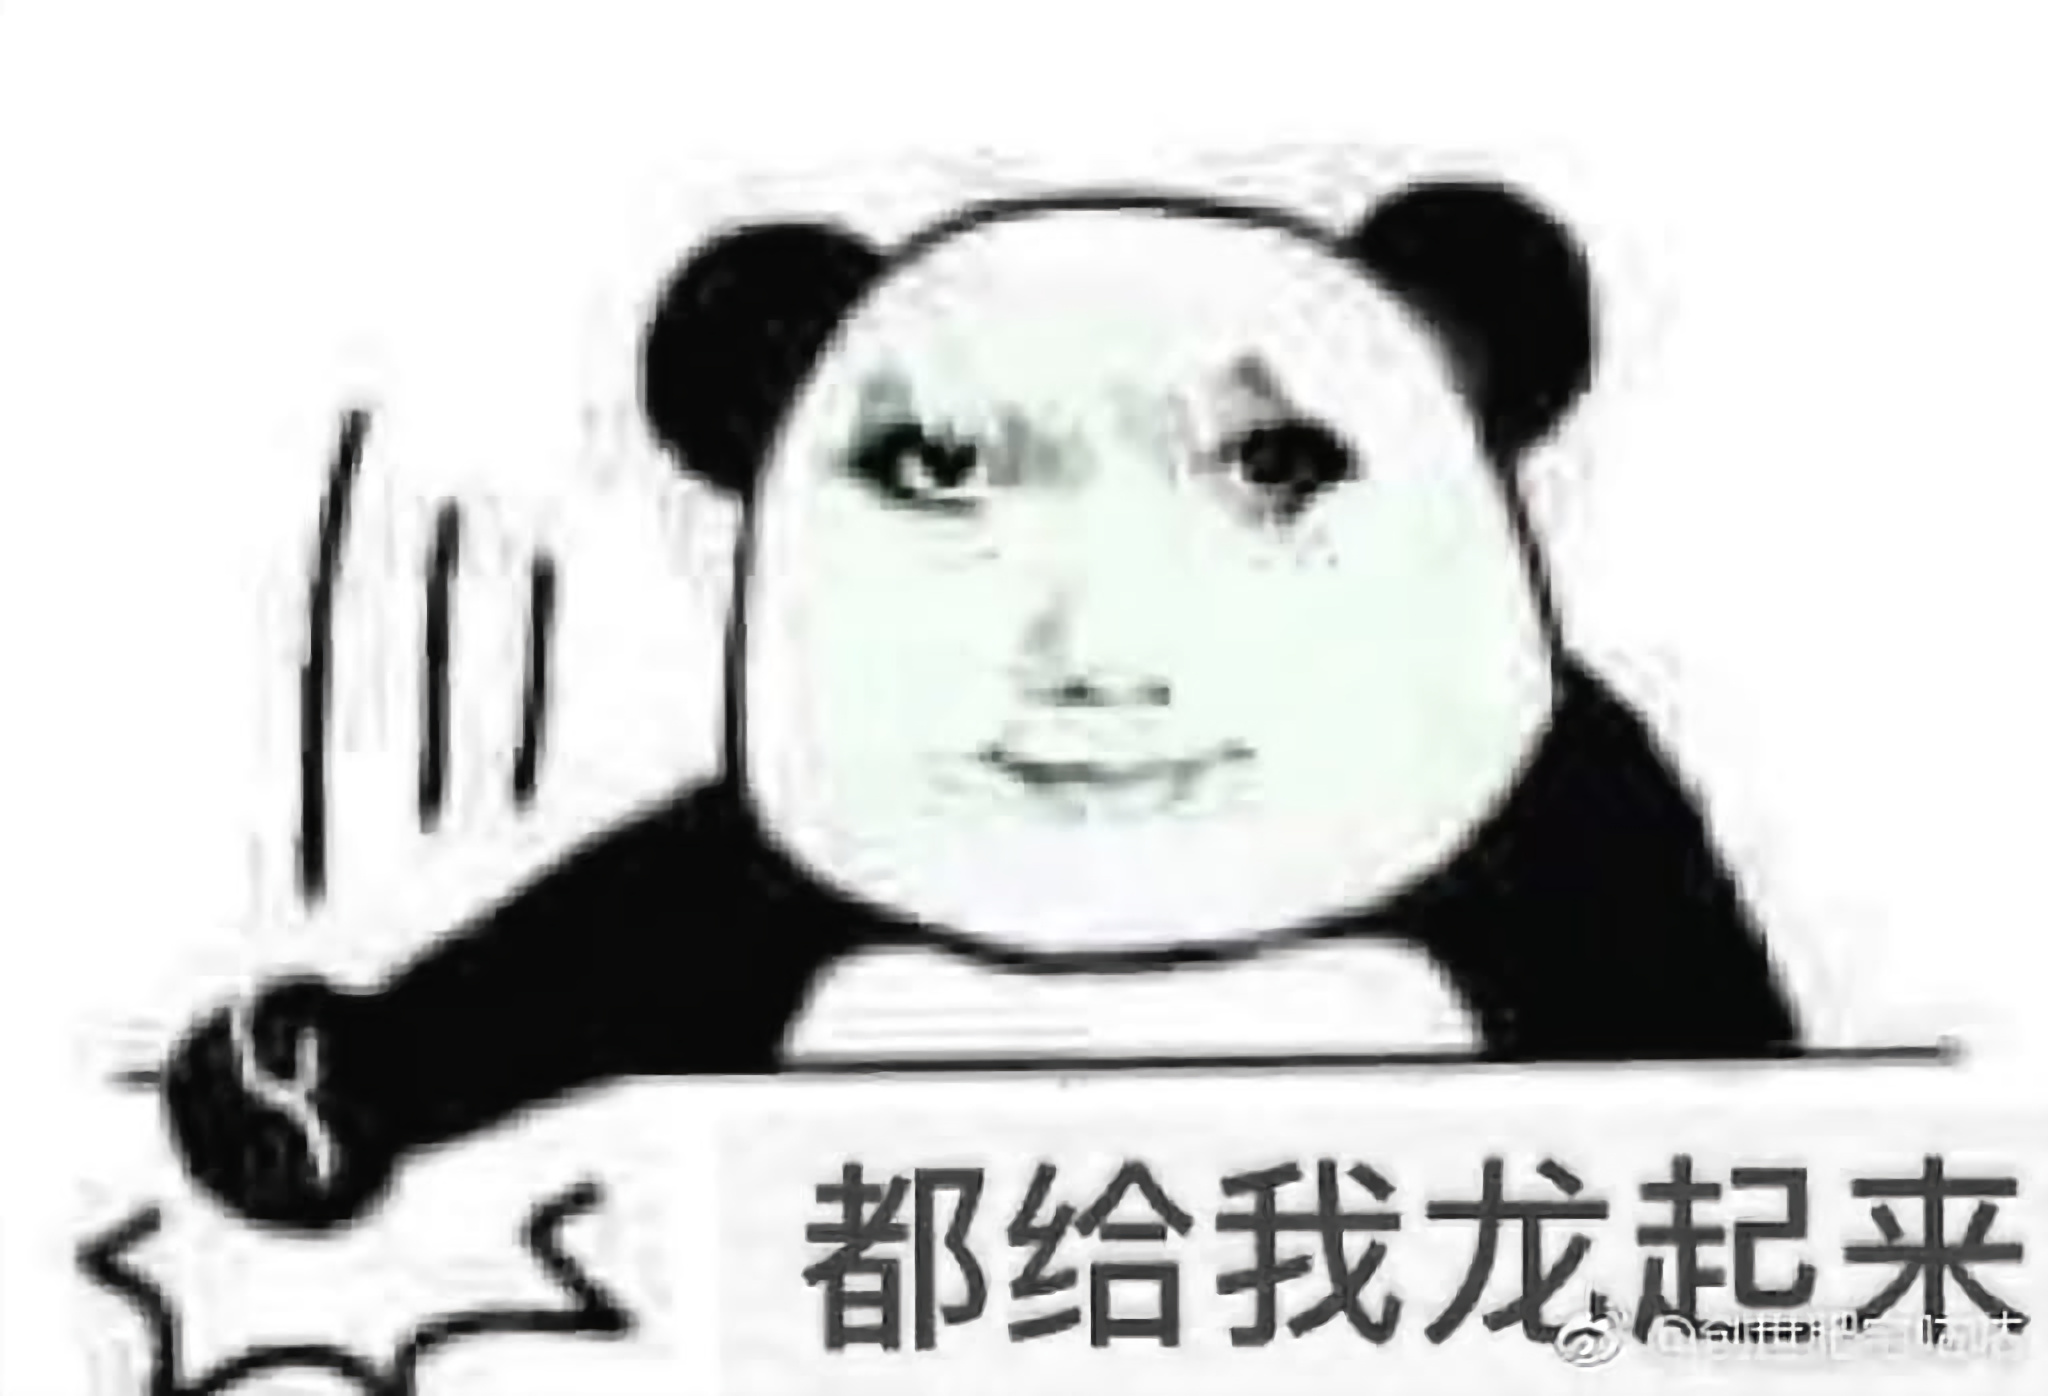dragon: (829, 361, 1408, 851)
